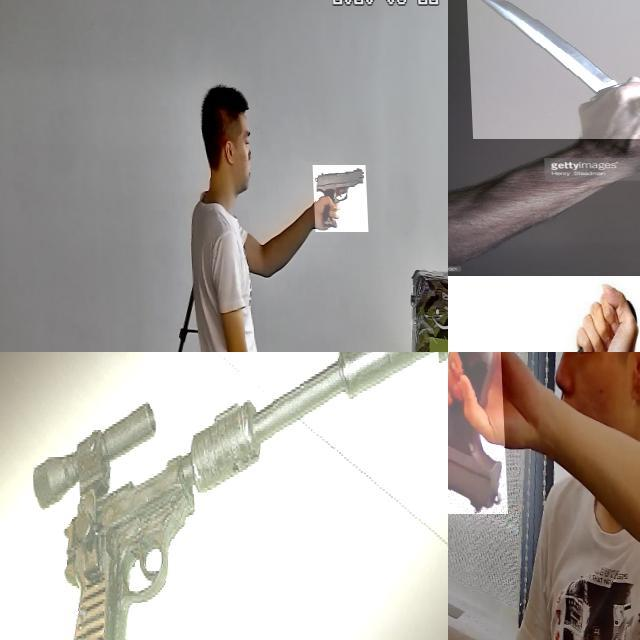-: (465, 0, 640, 138), (479, 303, 616, 352)
gun-knife-thesis - v11 Yolov5 augmented: (0, 352, 448, 640), (448, 352, 523, 513), (311, 165, 366, 232)
